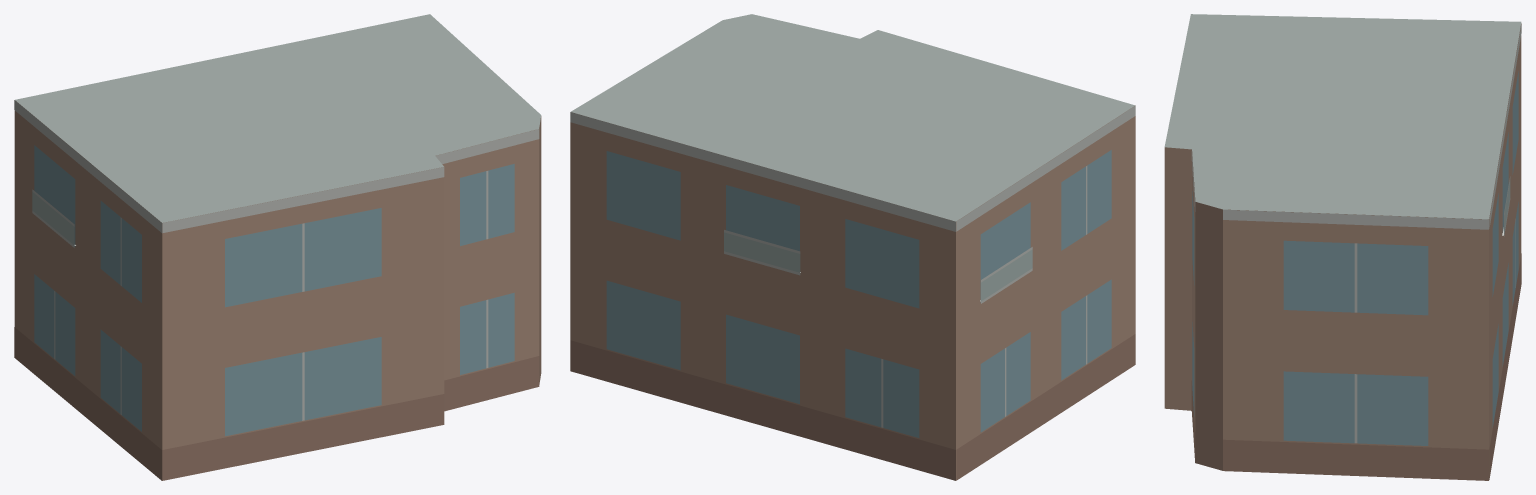
File: survey-upis-32660817.glb
The picture shows the model from 3 angles, left to right: view 1: azimuth 30°, elevation 25°; view 2: azimuth 150°, elevation 25°; view 3: azimuth 270°, elevation 25°; orthographic projection.
Visible parts, largest first — view 1: survey-upis-32660817.tmp; view 2: survey-upis-32660817.tmp; view 3: survey-upis-32660817.tmp.
Part boxes in pixels (bbox=[...]): survey-upis-32660817.tmp: bbox=[14, 14, 541, 480]; survey-upis-32660817.tmp: bbox=[570, 14, 1135, 480]; survey-upis-32660817.tmp: bbox=[1164, 14, 1521, 480].
Bounding box in the file's own units: 10.28 × 6.1 × 7.56.
